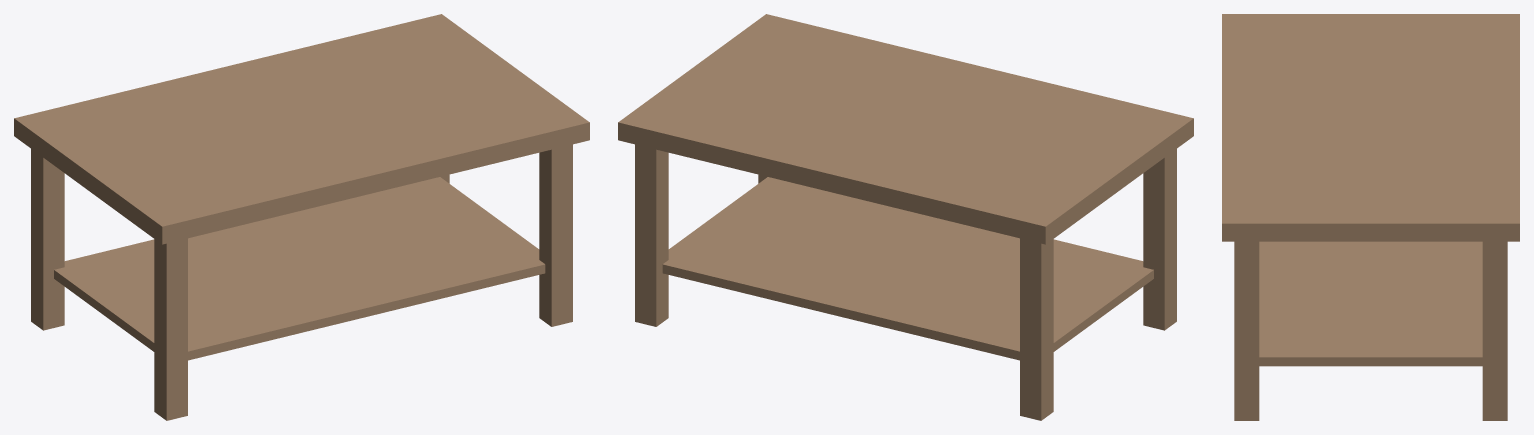
The model's file is coffee-table.glb.
The picture shows the model from 3 angles, left to right: view 1: azimuth 30°, elevation 25°; view 2: azimuth 150°, elevation 25°; view 3: azimuth 270°, elevation 25°; orthographic projection.
Parts seen in each view (by area): view 1: Top, Shelf, Leg (×3); view 2: Top, Shelf, Leg (×3); view 3: Top, Shelf, Leg (×2).
Boxes of the visible parts, x1,y1,x2,y2 form: Top: (14, 14, 589, 244); Shelf: (54, 177, 545, 360); Leg (×3): (31, 144, 572, 420); Top: (618, 14, 1193, 244); Shelf: (662, 177, 1153, 360); Leg (×3): (635, 144, 1176, 420); Top: (1222, 14, 1519, 241); Shelf: (1259, 241, 1482, 366); Leg (×2): (1234, 241, 1507, 420).
Size of the model in its own units: 1 by 0.45 by 0.6.
